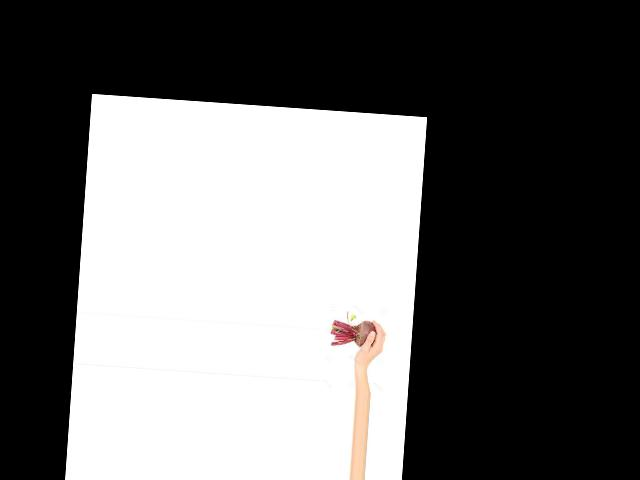beet: (330, 309, 378, 348)
